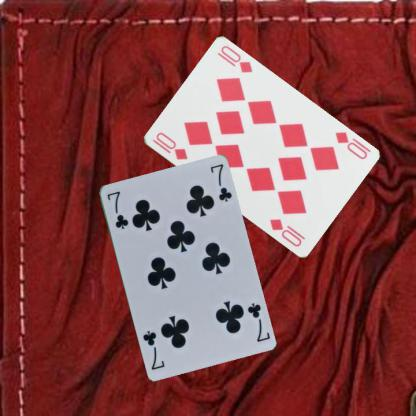10d: (150, 129, 188, 162), (332, 129, 368, 161)
7c: (244, 300, 271, 343), (104, 189, 129, 231)
